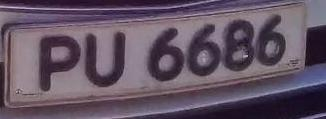6: (142, 22, 191, 87), (182, 19, 225, 83), (252, 15, 290, 72)
8: (220, 16, 261, 77)
P: (34, 23, 83, 100)
U: (83, 27, 134, 91)
